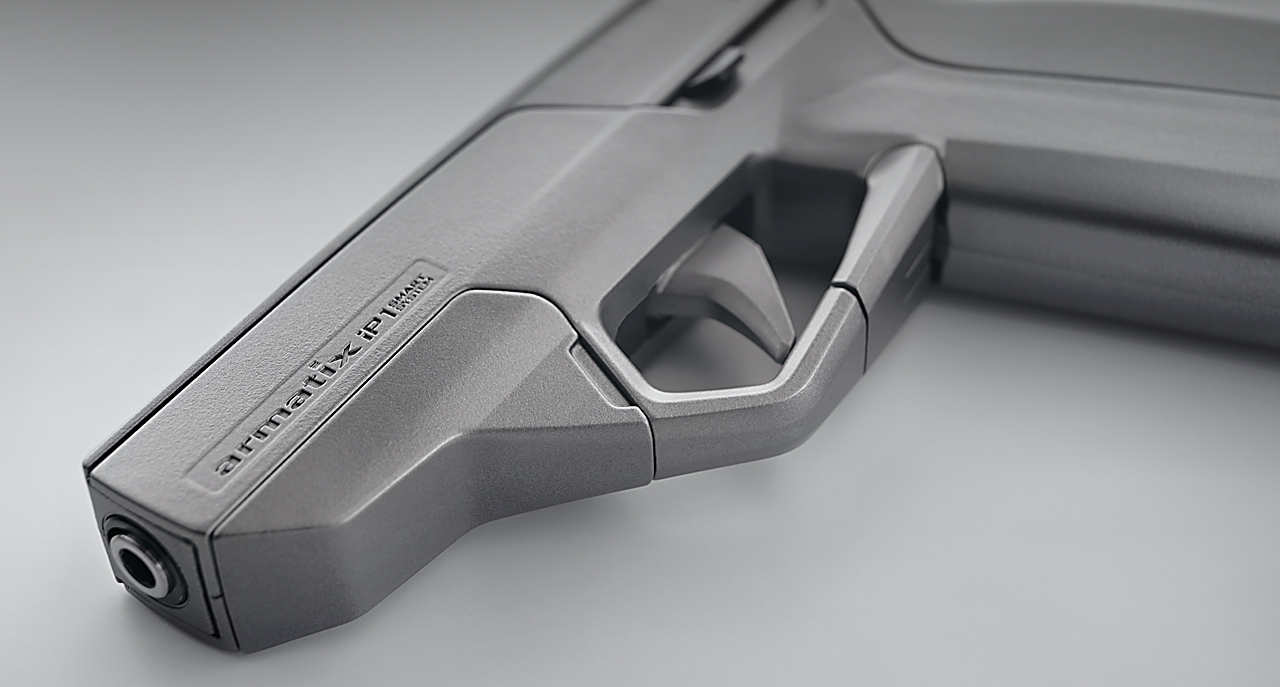gun: (67, 3, 1280, 683)
